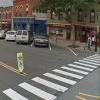crosswalk: (0, 53, 99, 100)
